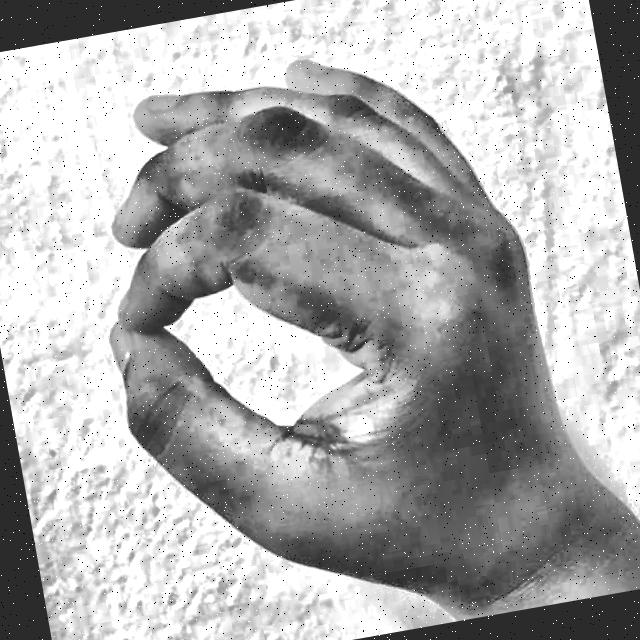Yo: (38, 0, 635, 640)
